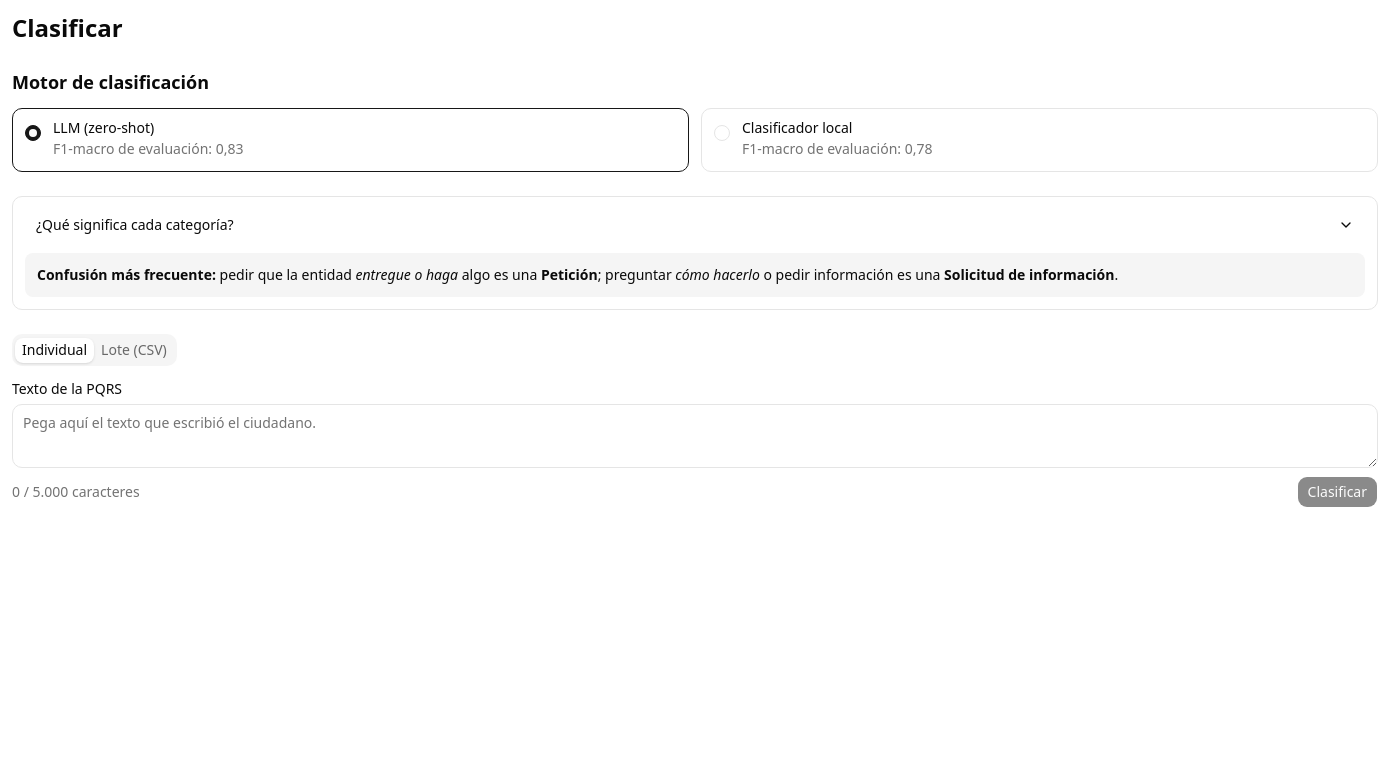
pestaña Individual › envía el motor elegido y muestra la categoría y el motor usado
The width and height of the screenshot is (1390, 780).
Check: the radio button named "LLM" next to "LLM (zero-shot)" is checked, box [25,125,41,141]
Click the radio button named "Clasificador" next to "Clasificador local" at (722, 133), box [714,125,730,141]
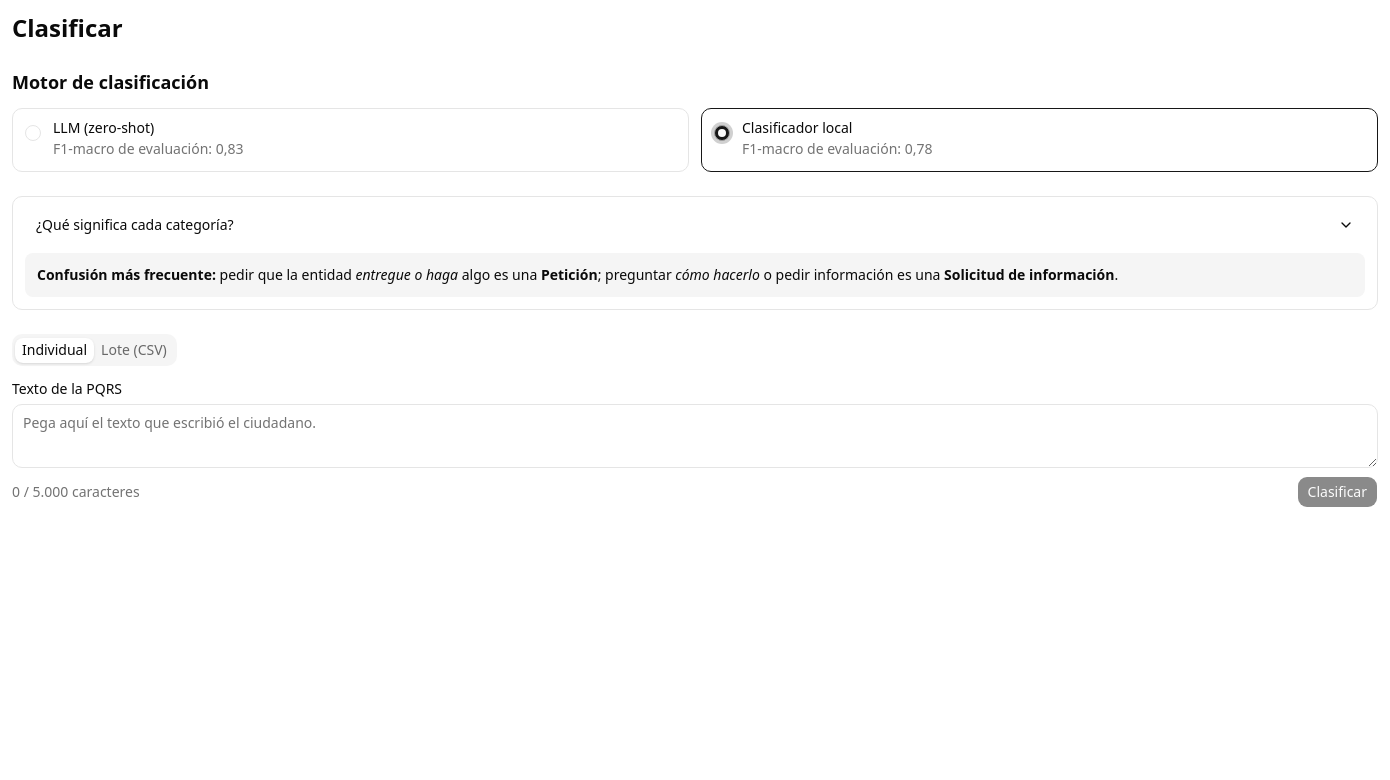
Type "  ¿Cuál es el horario?  " into the text box labelled "Texto de la PQRS" at (695, 436), box [12,404,1378,468]
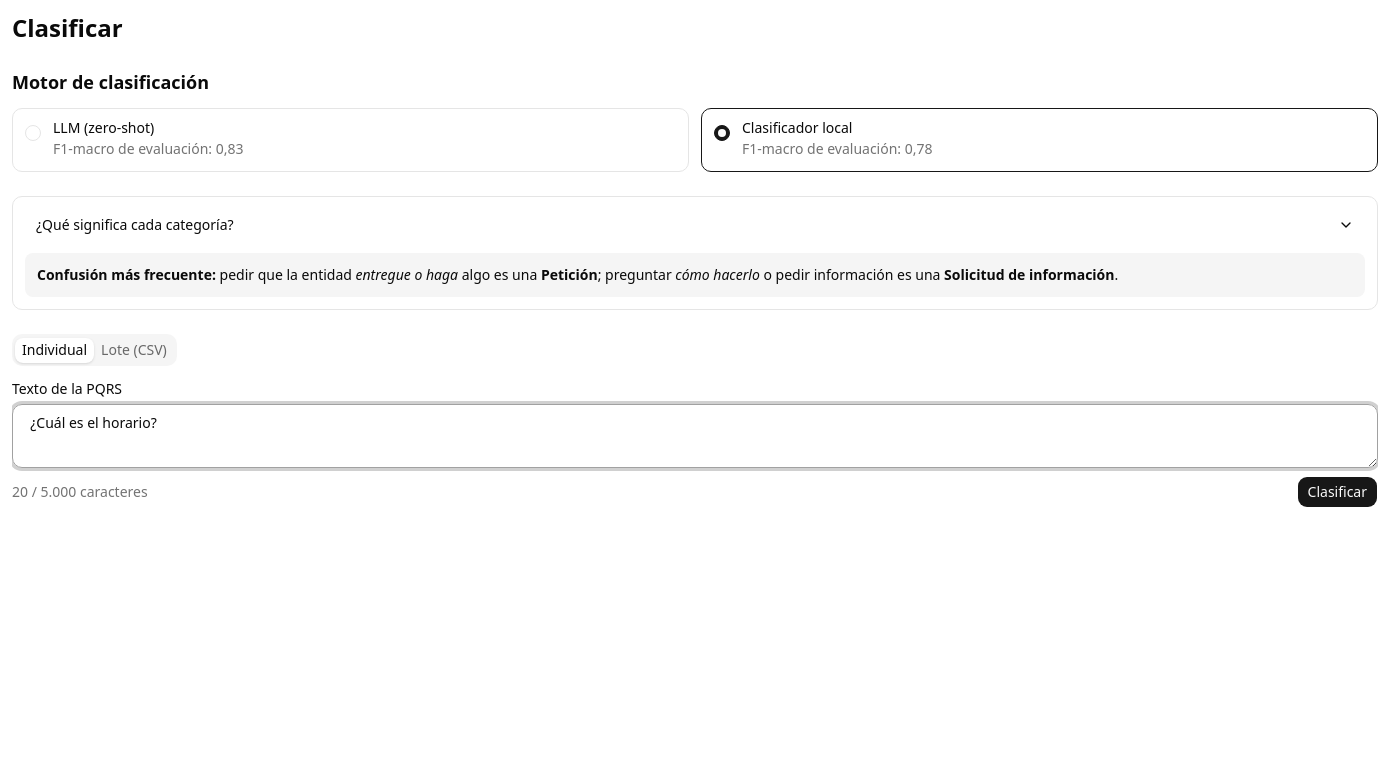
Click the button "Clasificar" at (1337, 492), box [1297,476,1378,508]
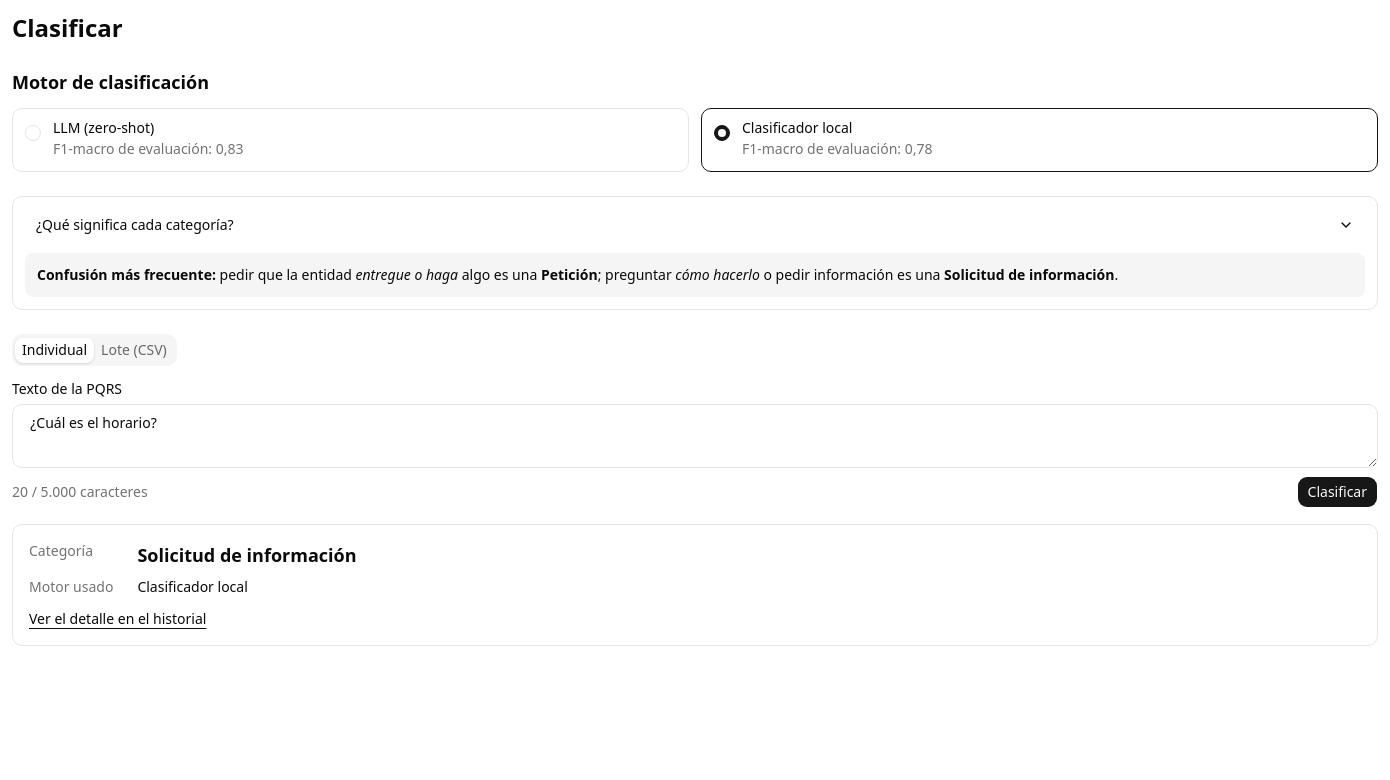
Check: the element named "Resultado" shows "Solicitud de información", box [137,543,356,567]
Check: the element named "Resultado" shows "Clasificador local", box [137,577,248,596]
